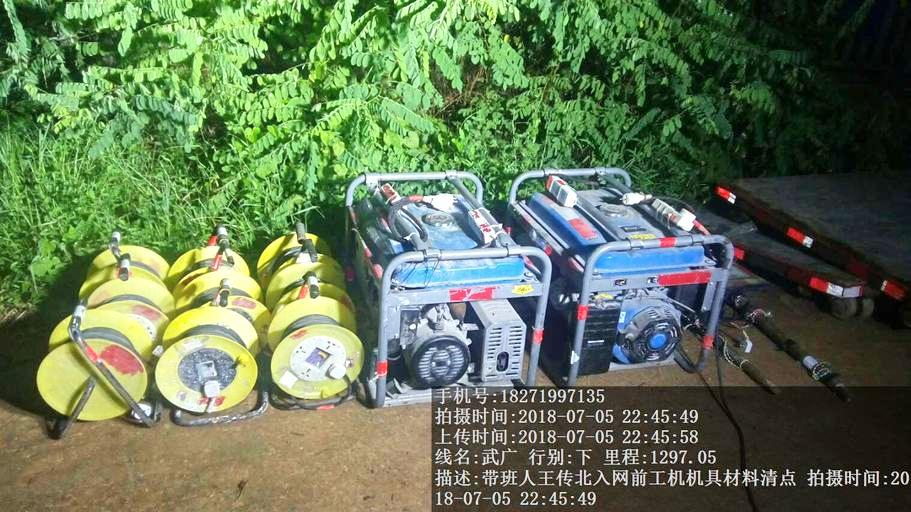DJ: (353, 176, 541, 385)
DX: (38, 310, 159, 423), (158, 311, 262, 419), (263, 295, 356, 410)
